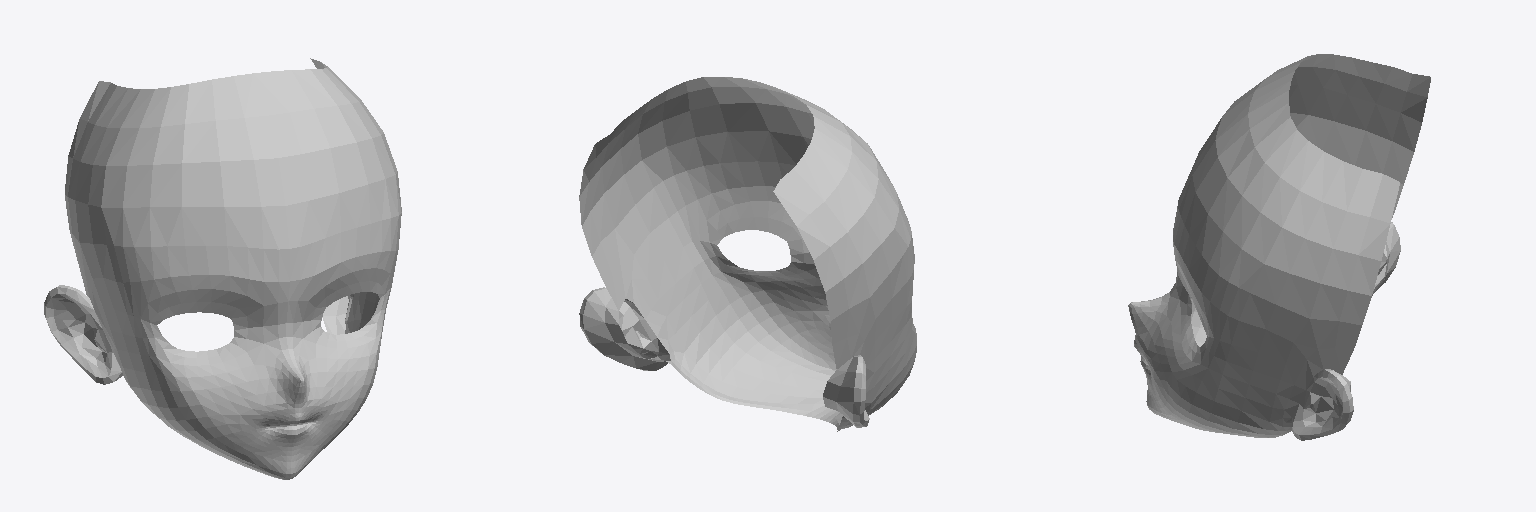
The model's file is headL.obj.
3 views of the same model, side by side, from view 1: azimuth 30°, elevation 25°; view 2: azimuth 150°, elevation 25°; view 3: azimuth 270°, elevation 25° (orthographic).
Parts seen in each view (by area): view 1: S_actor_aglina_face_01_lod0; view 2: S_actor_aglina_face_01_lod0; view 3: S_actor_aglina_face_01_lod0.
Boxes of the visible parts, box(x1,y1,x2,y2) form: S_actor_aglina_face_01_lod0: box(44, 58, 401, 479); S_actor_aglina_face_01_lod0: box(579, 77, 916, 431); S_actor_aglina_face_01_lod0: box(1128, 54, 1430, 440).
Bounding box in the file's own units: 0.1882 × 0.2078 × 0.1603.